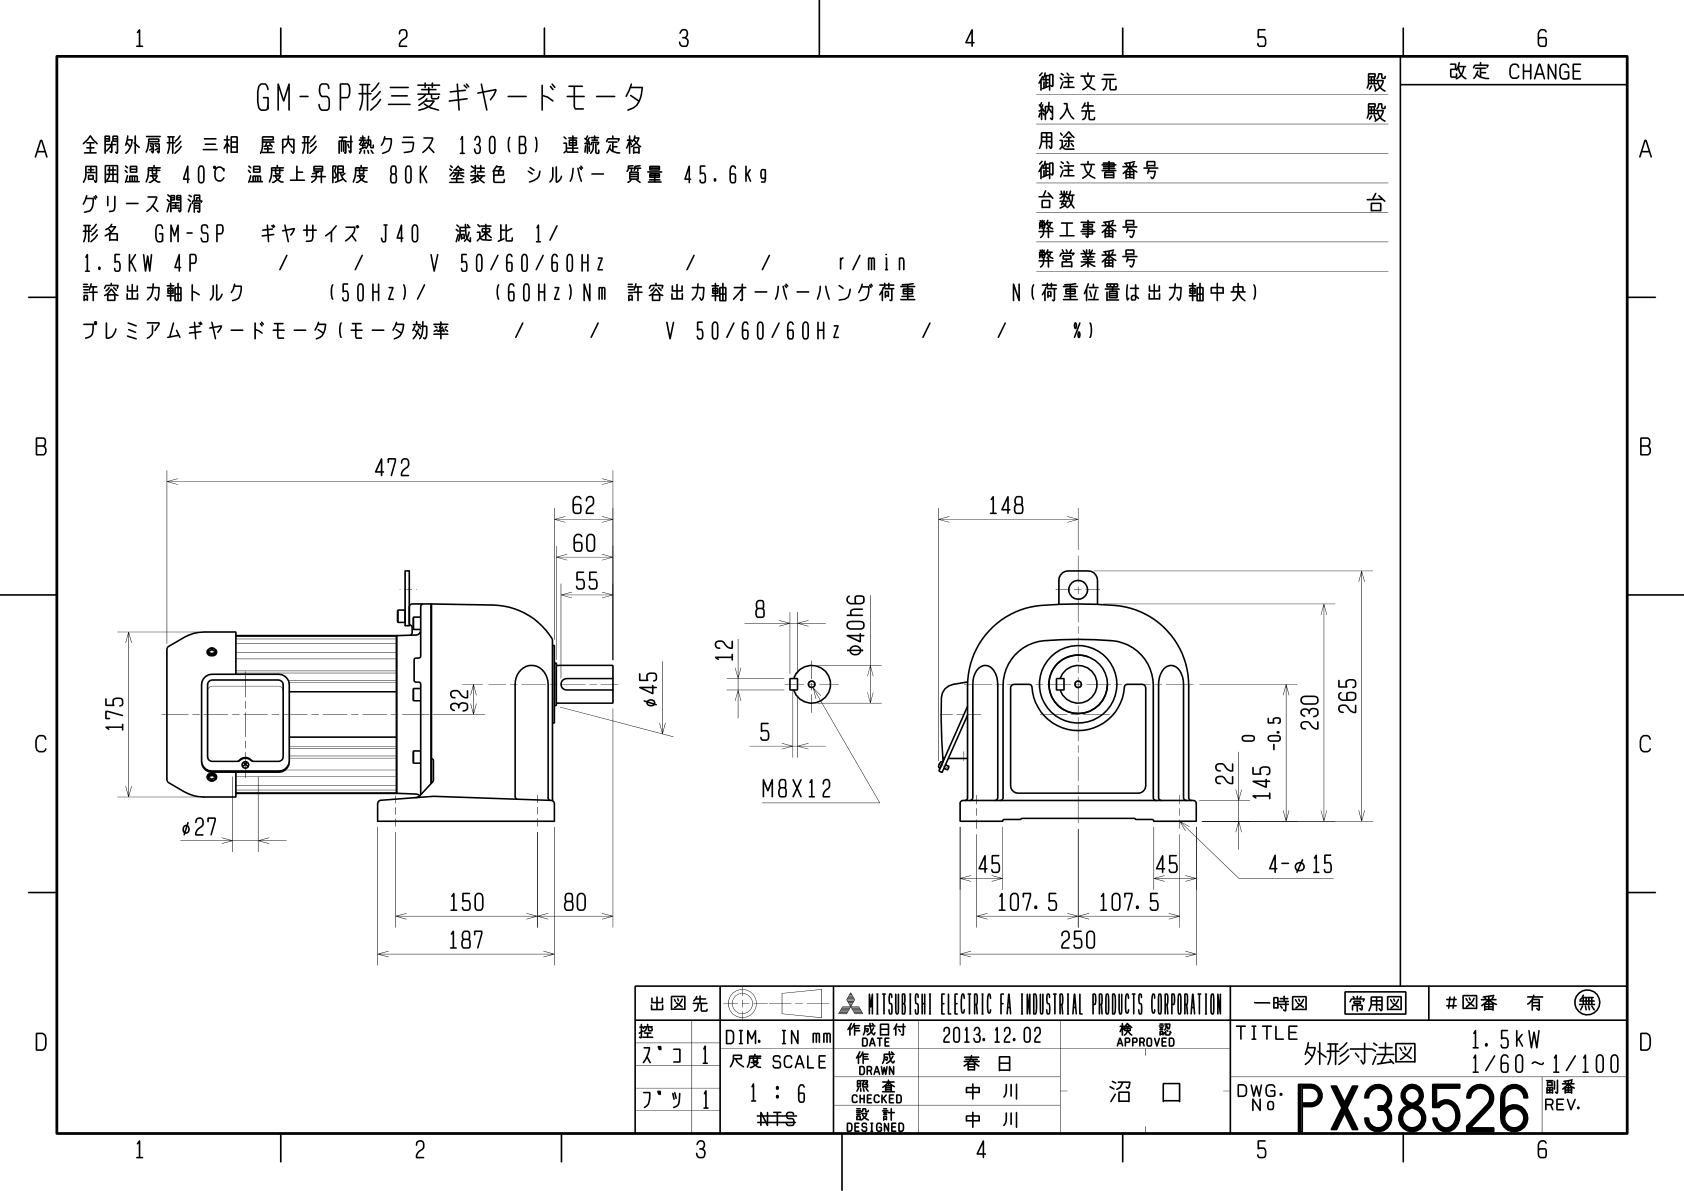GM_SP_屋内_三相_脚: (1, 1, 1678, 1179)
